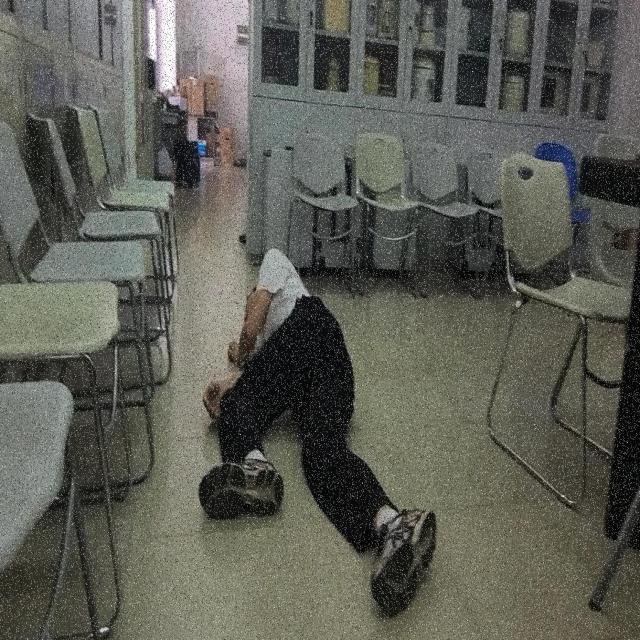fall: (200, 245, 438, 620)
